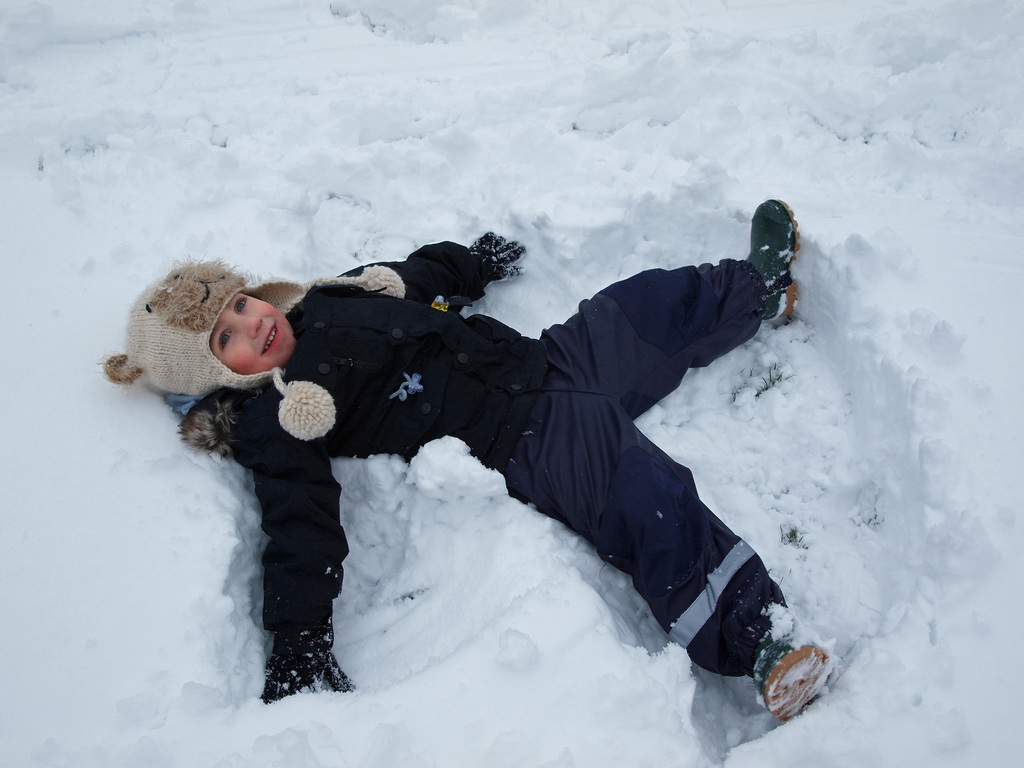Person: (89, 197, 846, 725)
